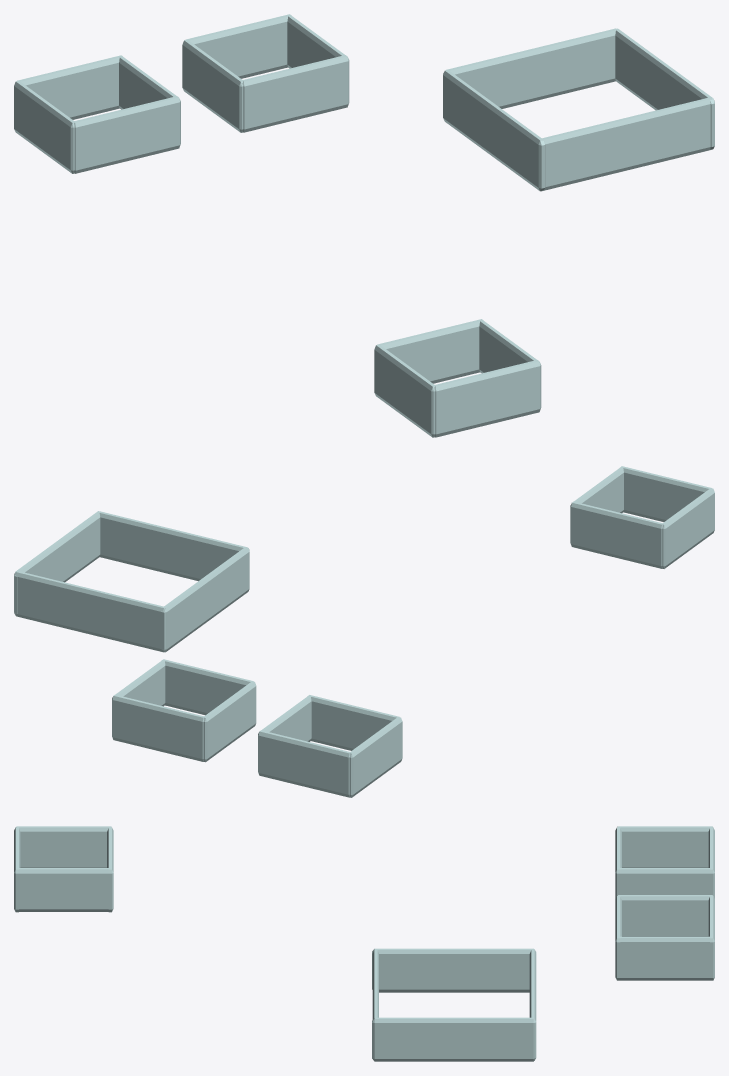
Rendered from mazeRooms.gltf.
The picture shows the model from 3 angles, top to bottom: view 1: azimuth 30°, elevation 25°; view 2: azimuth 150°, elevation 25°; view 3: azimuth 270°, elevation 25°; orthographic projection. The views are drawn at different scales.
Visible parts, largest first — view 1: mazeRooms; view 2: mazeRooms; view 3: mazeRooms.
Part boxes in pixels (x1,y1,x2,y2): mazeRooms: [14, 14, 714, 437]; mazeRooms: [14, 466, 714, 797]; mazeRooms: [14, 826, 714, 1061].
Bounding box in the file's own units: 74.31 × 8.81 × 108.
